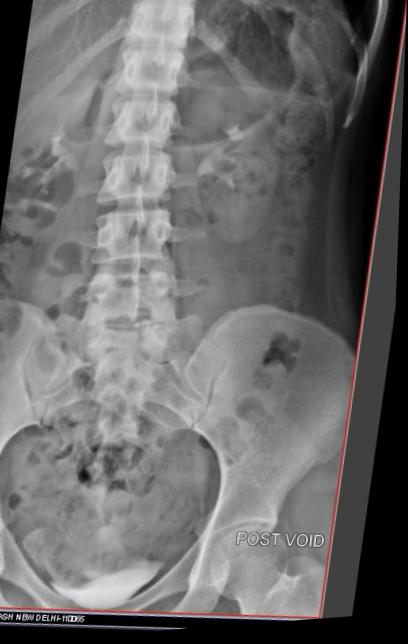bladder: (41, 528, 208, 640)
vertebrae: (129, 34, 212, 100)
